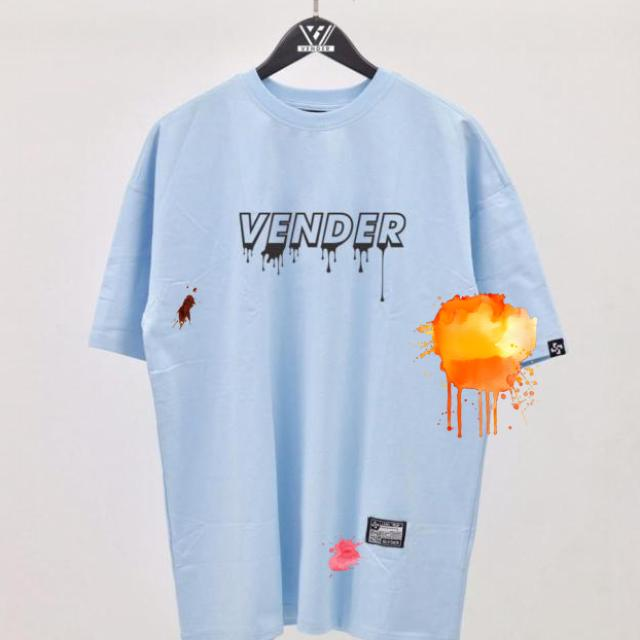stain: (421, 296, 533, 434), (323, 535, 365, 578), (170, 286, 200, 329)
